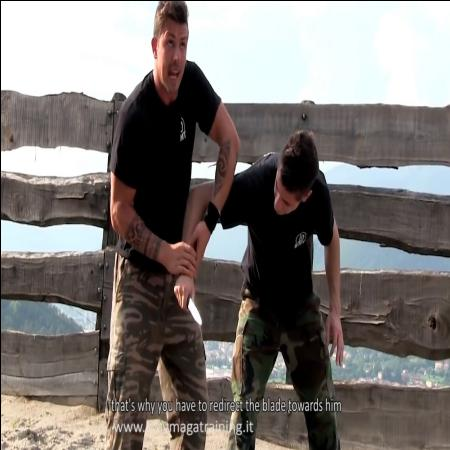long weapon: (172, 276, 206, 331)
